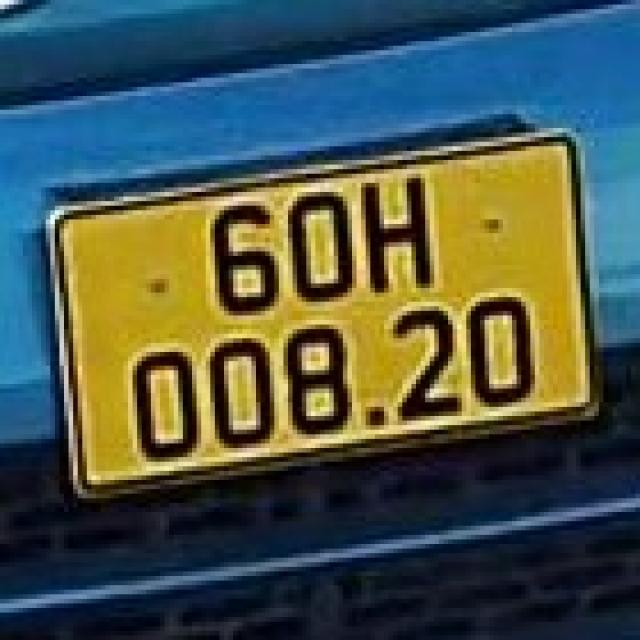0: (465, 290, 538, 409), (286, 192, 358, 303), (132, 349, 200, 460), (210, 334, 276, 448)
2: (391, 302, 464, 422)
6: (213, 199, 281, 318)
8: (284, 323, 353, 439)
H: (362, 175, 430, 291)
